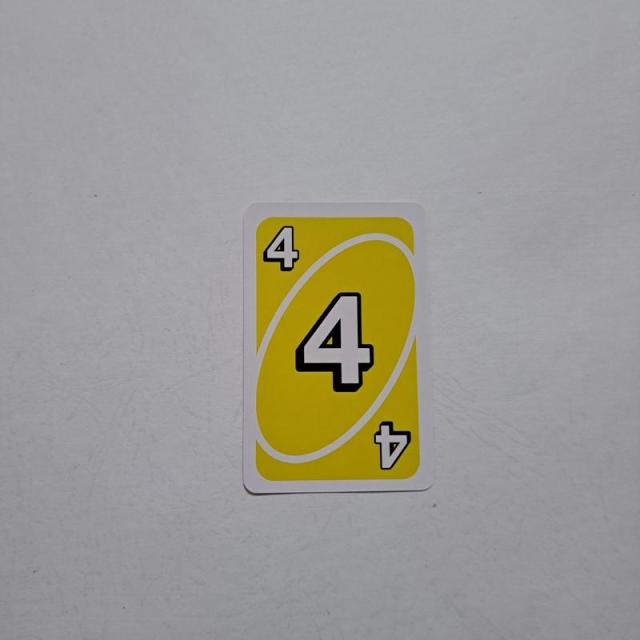Number_4: (260, 218, 303, 278)
Yellow_Card: (252, 208, 428, 490)
